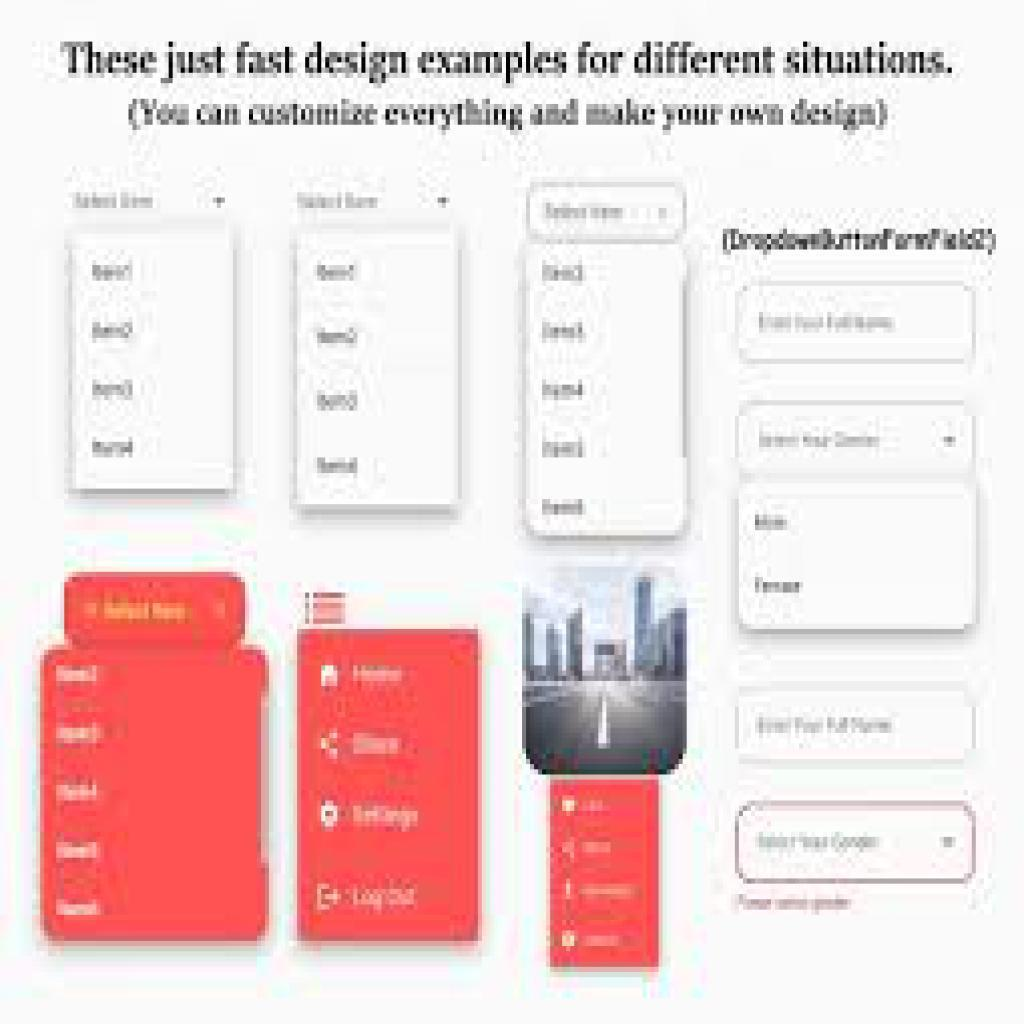dropdown: (735, 802, 974, 881), (744, 407, 974, 465), (67, 176, 237, 227), (287, 174, 460, 224), (530, 189, 686, 244)
input: (737, 282, 976, 360), (737, 690, 974, 762)
